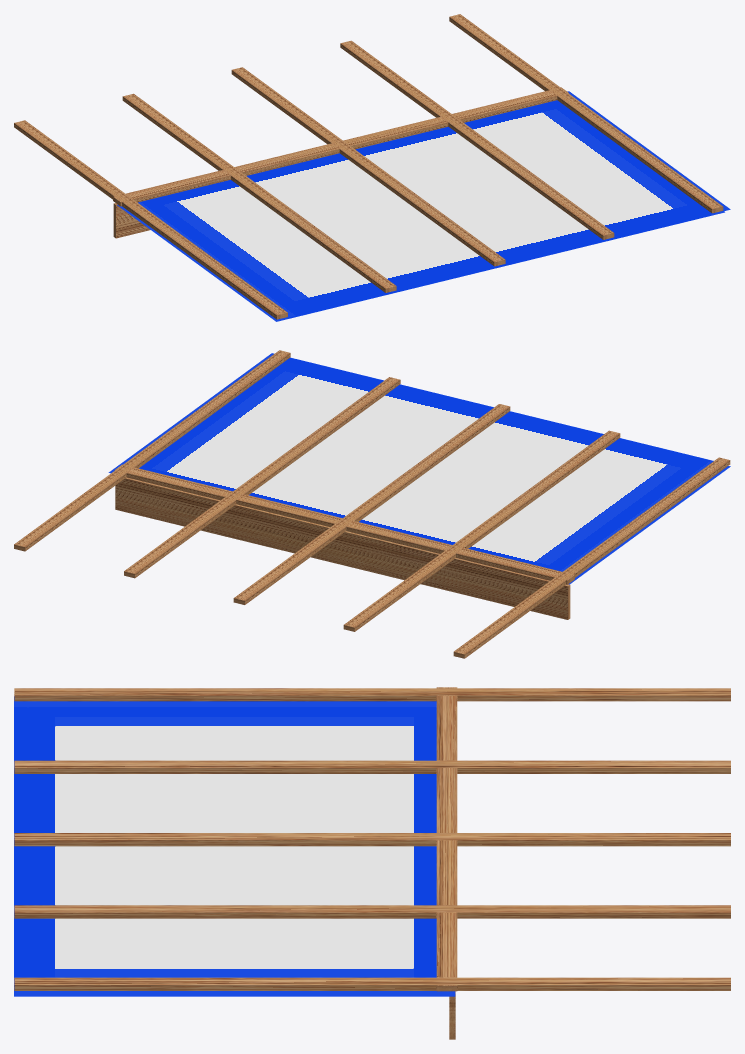
Rendered from DRIVEIN_wtf.obj.
3 renders of one model, top to bottom at view 1: azimuth 30°, elevation 25°; view 2: azimuth 150°, elevation 25°; view 3: azimuth 270°, elevation 25°, orthographic. The views are drawn at different scales.
Parts seen in each view (by area): view 1: group2, group4, group5, group6, group7, group10, group8, group9, group3; view 2: group2, group3, group4, group10, group7, group5, group8, group6, group9; view 3: group2, group5, group6, group7, group8, group10, group4.
Boxes of the visible parts, bbox=[...] form: group2: bbox=[138, 91, 730, 318]; group4: bbox=[113, 87, 568, 206]; group5: bbox=[449, 14, 723, 213]; group6: bbox=[340, 40, 614, 239]; group7: bbox=[231, 67, 505, 266]; group10: bbox=[14, 120, 287, 319]; group8: bbox=[122, 93, 396, 292]; group9: bbox=[117, 204, 724, 321]; group3: bbox=[113, 203, 150, 238]; group2: bbox=[108, 353, 713, 571]; group3: bbox=[115, 477, 570, 619]; group4: bbox=[114, 464, 574, 584]; group10: bbox=[453, 457, 730, 658]; group7: bbox=[233, 404, 510, 604]; group5: bbox=[14, 350, 290, 551]; group8: bbox=[343, 430, 620, 631]; group6: bbox=[124, 377, 400, 578]; group9: bbox=[568, 466, 730, 584]; group2: bbox=[14, 698, 455, 996]; group5: bbox=[14, 977, 730, 990]; group6: bbox=[14, 905, 730, 918]; group7: bbox=[14, 833, 730, 846]; group8: bbox=[14, 760, 730, 773]; group10: bbox=[14, 688, 730, 701]; group4: bbox=[436, 687, 457, 991].
Bounding box in the file's own units: 659 × 54.91 × 660.
